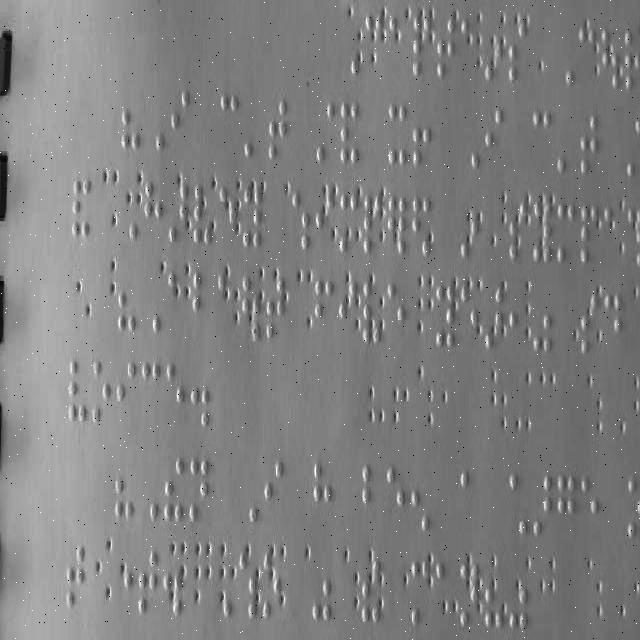A: (458, 468, 479, 536)
B: (360, 461, 380, 530), (192, 270, 212, 334)
C: (142, 359, 160, 428), (531, 109, 551, 171), (220, 92, 238, 157), (578, 28, 594, 88)
D: (604, 294, 622, 356)
E: (166, 358, 184, 429), (580, 474, 598, 544), (386, 466, 404, 534), (460, 283, 478, 348), (386, 281, 404, 341)
F: (314, 278, 334, 340)
G: (556, 474, 576, 544)
H: (143, 180, 163, 247), (313, 460, 332, 527)
I: (116, 359, 136, 428), (170, 89, 190, 151), (264, 458, 282, 524), (485, 107, 503, 169)
M: (409, 558, 428, 624), (556, 202, 574, 264)
N: (189, 456, 209, 526)
O: (92, 356, 110, 426)
P: (580, 206, 598, 266)
R: (624, 31, 640, 93)
S: (508, 23, 526, 84)
T: (138, 550, 158, 614), (66, 541, 84, 610), (578, 114, 598, 174), (436, 17, 454, 82), (268, 100, 286, 162), (266, 278, 284, 340)
V: (68, 356, 86, 426)
X: (388, 103, 407, 168)
Y: (242, 188, 262, 252), (436, 283, 454, 348)
